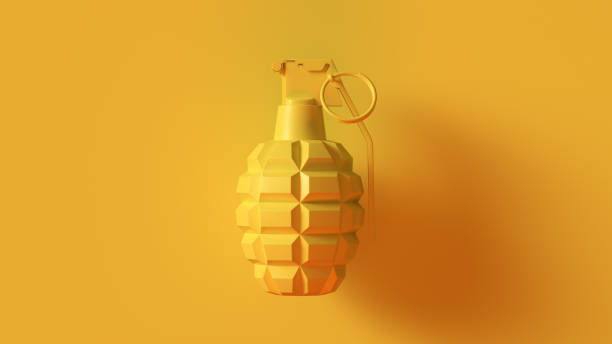e1: (236, 57, 382, 301)
